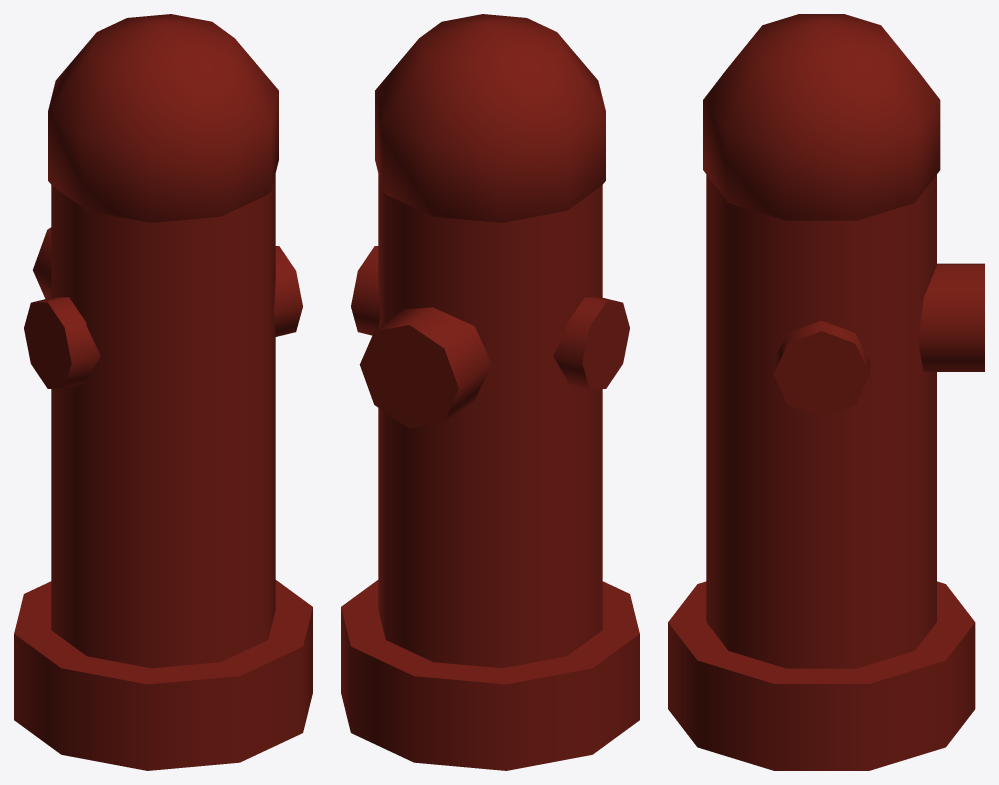
Rendered from hydrant.glb.
The picture shows the model from 3 angles, left to right: view 1: azimuth 30°, elevation 25°; view 2: azimuth 150°, elevation 25°; view 3: azimuth 270°, elevation 25°; orthographic projection.
Parts seen in each view (by area): view 1: hydrant_body; view 2: hydrant_body; view 3: hydrant_body.
Part boxes in pixels (x1,y1,x2,y2): hydrant_body: [14, 14, 312, 770]; hydrant_body: [341, 14, 639, 770]; hydrant_body: [668, 14, 984, 770].
Size of the model in its own units: 0.3043 by 0.79 by 0.33.
